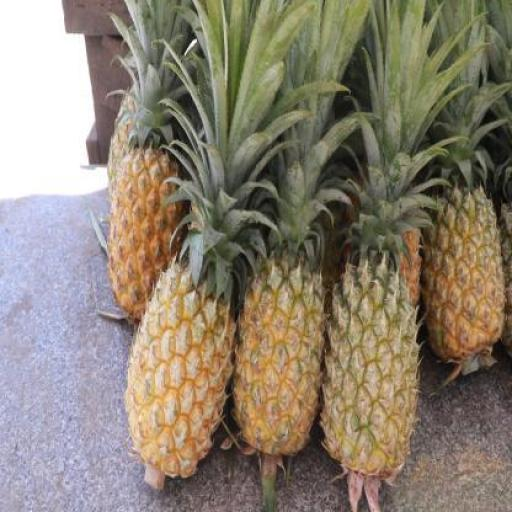------------------------------: (322, 268, 420, 472)
Pineapple - v8 v1: (126, 267, 233, 479), (231, 263, 322, 458), (106, 140, 183, 326), (425, 188, 503, 356)
